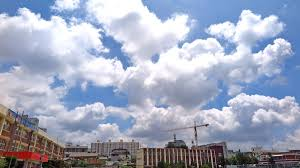sky: (2, 5, 297, 138)
vilage: (10, 127, 226, 168)
